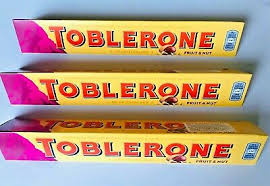Chocolate: (1, 8, 270, 175)
